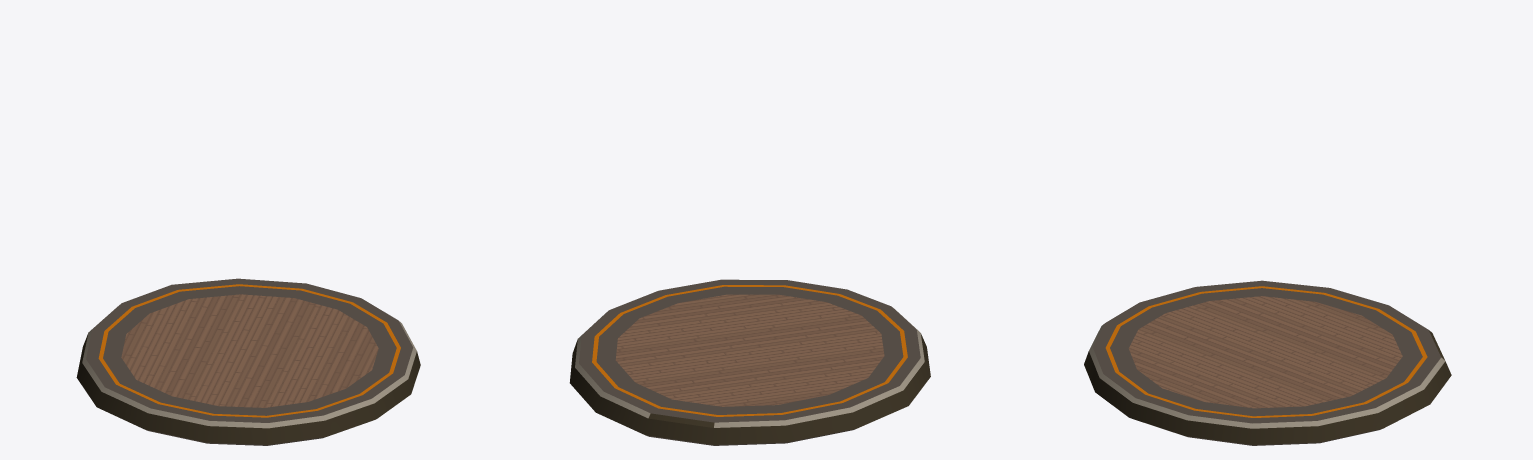
The model's file is TheWhale_Action_Elevator.glb.
3 renders of one model, left to right at view 1: azimuth 30°, elevation 25°; view 2: azimuth 150°, elevation 25°; view 3: azimuth 270°, elevation 25°, orthographic. The views are drawn at different scales.
Visible parts, largest first — view 1: TheWhale_Elevador; view 2: TheWhale_Elevador; view 3: TheWhale_Elevador.
Part boxes in pixels (bbox=[...]): TheWhale_Elevador: bbox=[76, 278, 420, 445]; TheWhale_Elevador: bbox=[569, 279, 930, 445]; TheWhale_Elevador: bbox=[1084, 280, 1451, 445].
Size of what is drawn, in the model's own units: 14.2 by 8.82 by 14.69.
Materials: 3 (3 with a texture image).
